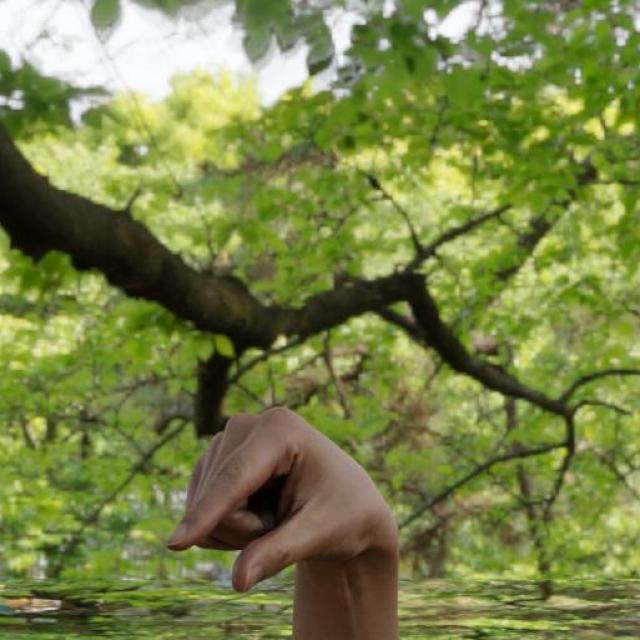Q: (162, 403, 402, 594)
